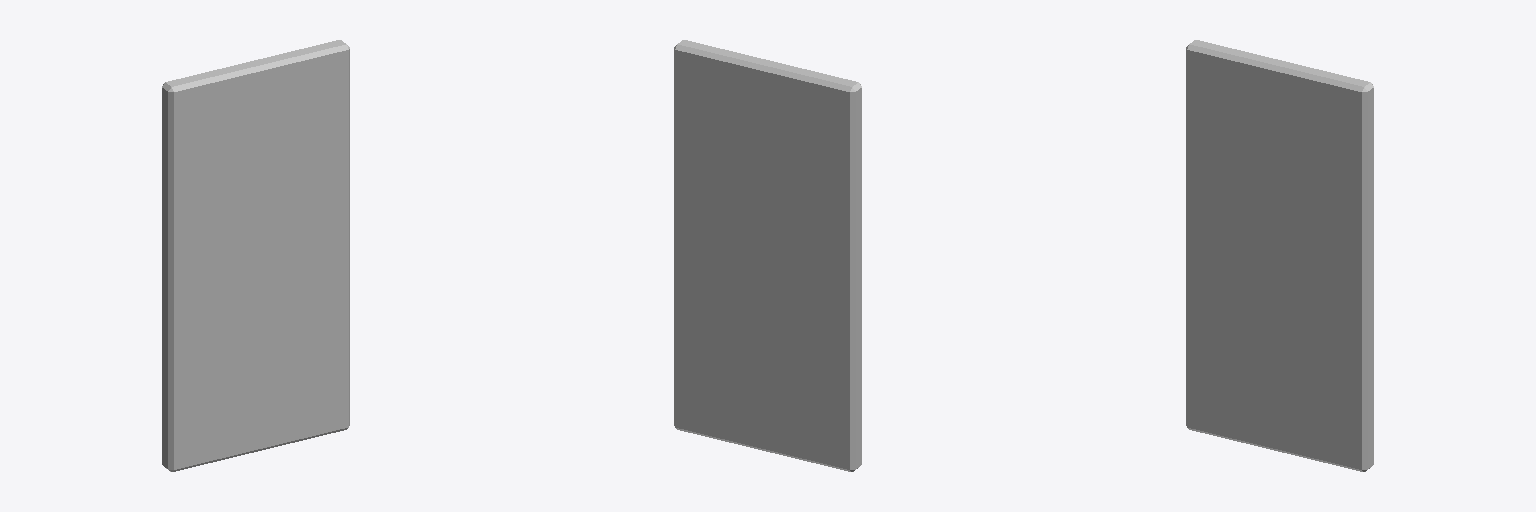
File: panel_1x2.obj
3 views of the same model, side by side, from view 1: azimuth 30°, elevation 25°; view 2: azimuth 150°, elevation 25°; view 3: azimuth 330°, elevation 25° (orthographic).
Parts seen in each view (by area): view 1: 1x2_white_geo_Plane.002; view 2: 1x2_white_geo_Plane.002; view 3: 1x2_white_geo_Plane.002.
Boxes of the visible parts, <box> form: 1x2_white_geo_Plane.002: <box>162,40,349,471</box>; 1x2_white_geo_Plane.002: <box>674,40,861,471</box>; 1x2_white_geo_Plane.002: <box>1186,40,1373,471</box>.
Bounding box in the file's own units: 0.98 × 1.98 × 0.1.